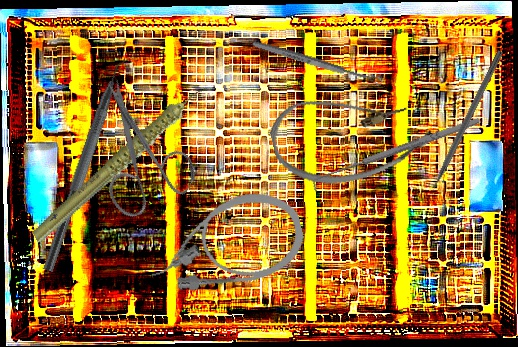Cannula: (265, 74, 438, 197), (138, 183, 311, 304)
Chopper: (42, 46, 141, 278)
Handpiece: (8, 82, 238, 246)
Hook Surgical: (308, 114, 485, 193), (421, 49, 505, 206)
Iris Scissors: (55, 75, 219, 236)
Surgical Spoon: (251, 38, 384, 88)
